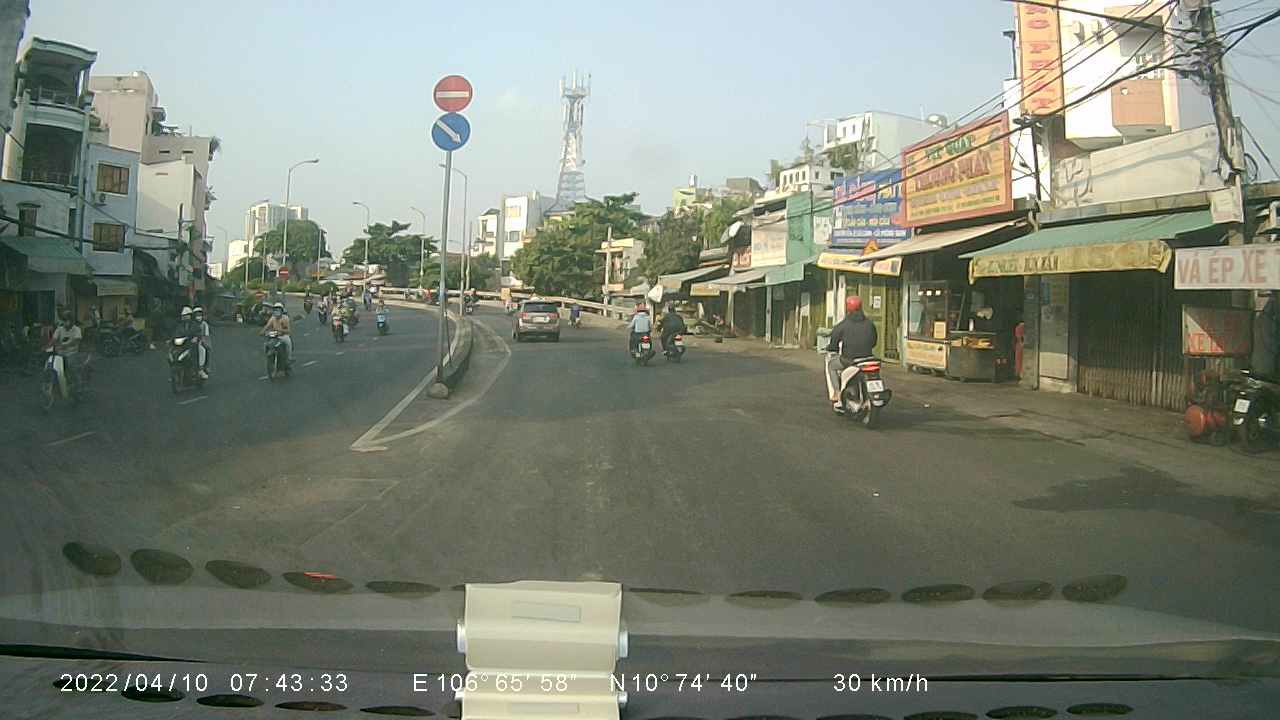Cam di nguoc chieu: (430, 72, 475, 111)
Huong di phai re phai: (426, 110, 474, 152)
